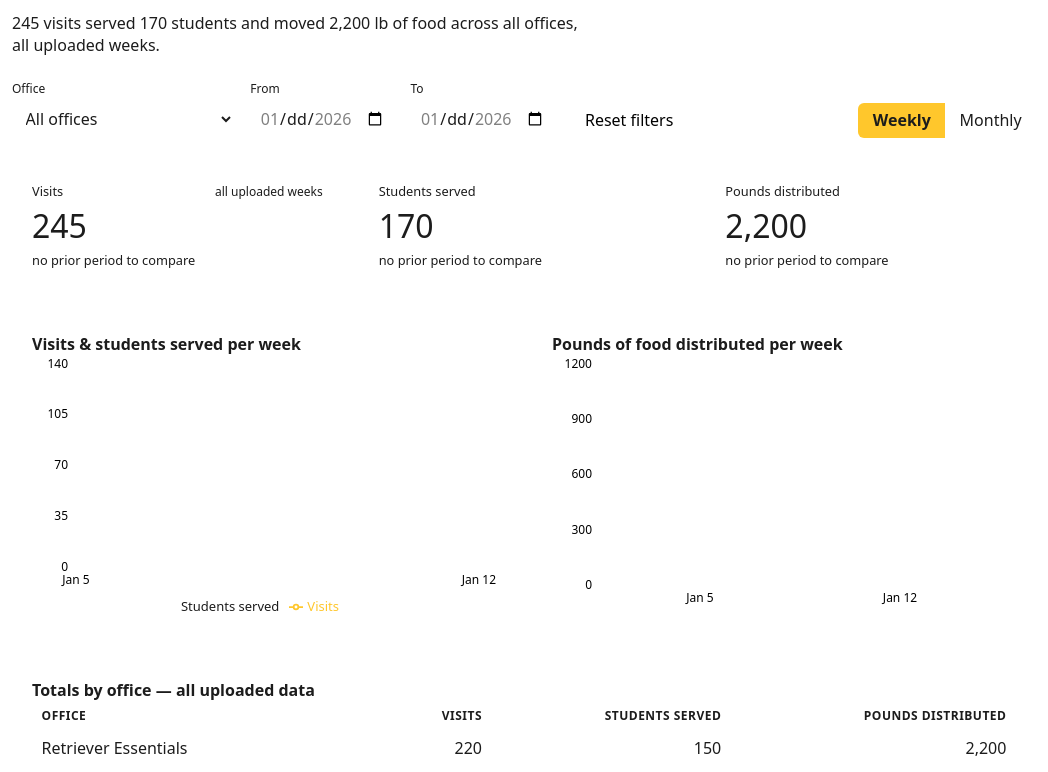
Test: Dashboard › switches the charts between weekly and monthly
Check: the text "Visits & students served per week" is shown, box [32,333,301,355]
Click the button "Monthly". click: x=991, y=120
box: [945,103,1036,138]
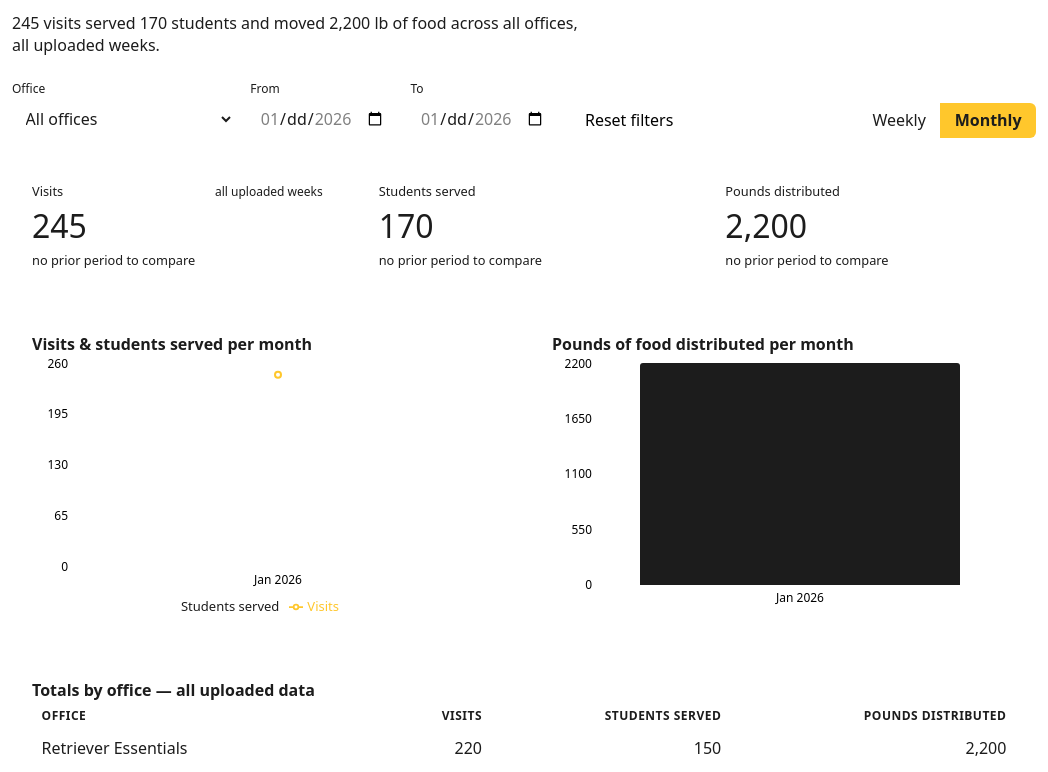
Check: the text "Pounds of food distributed per month" is shown, box [552,333,854,355]
